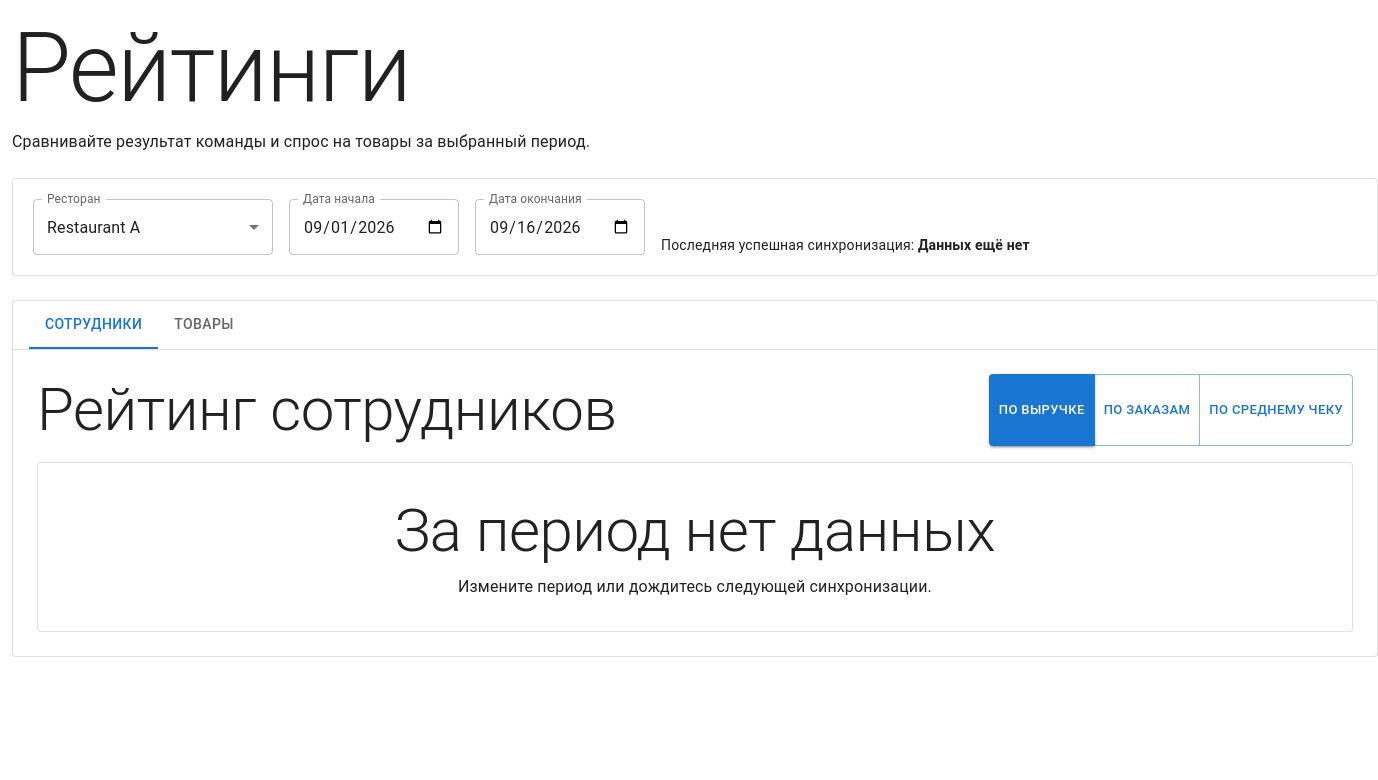
Scenario: ReportsPage › stops loading and does not request a reversed period
The width and height of the screenshot is (1378, 780).
Check: the heading "За период нет данных" is shown, box [395,495,995,566]
Type "2026-09-20" into the date field labelled "Дата начала" at (374, 227), box [289,199,459,255]
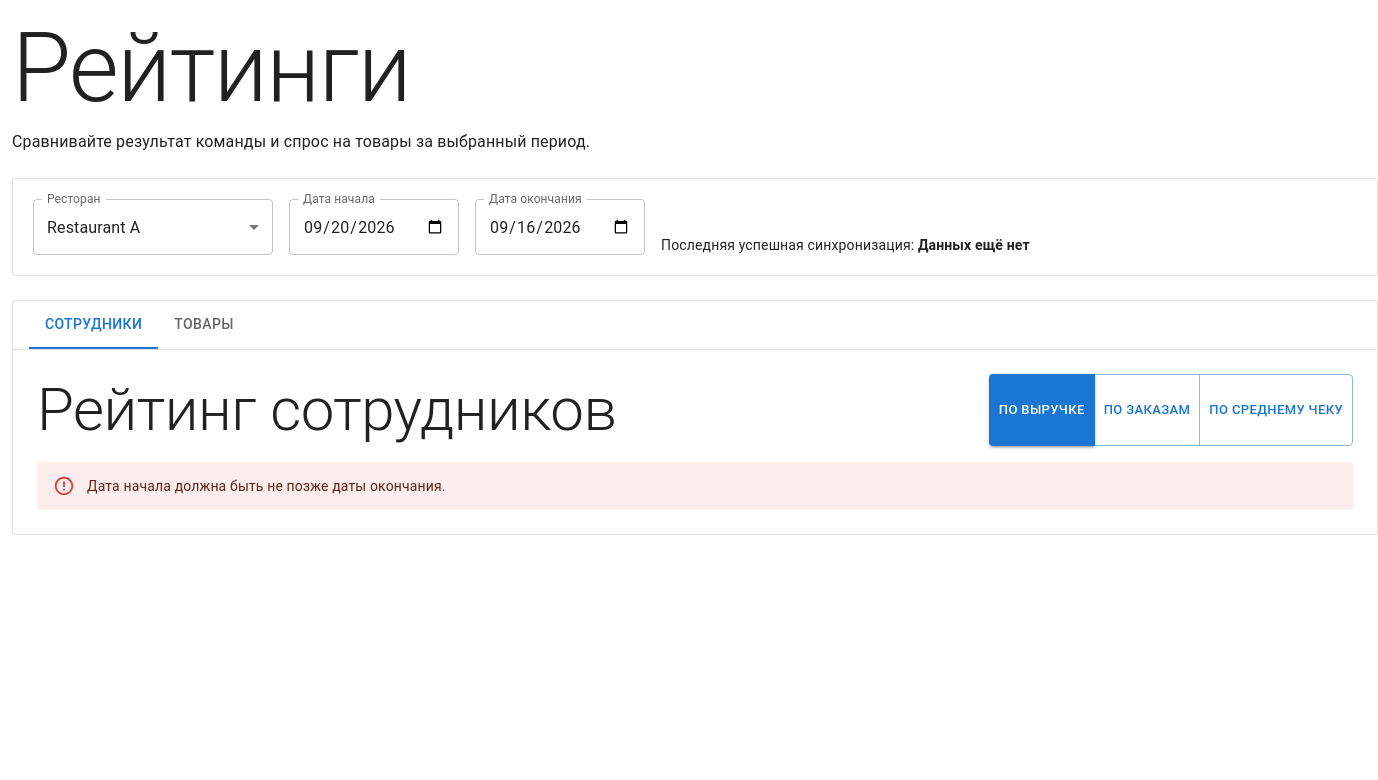
Check: the message reads "Дата начала должна быть не позже даты окончания.", box [87,478,446,494]
